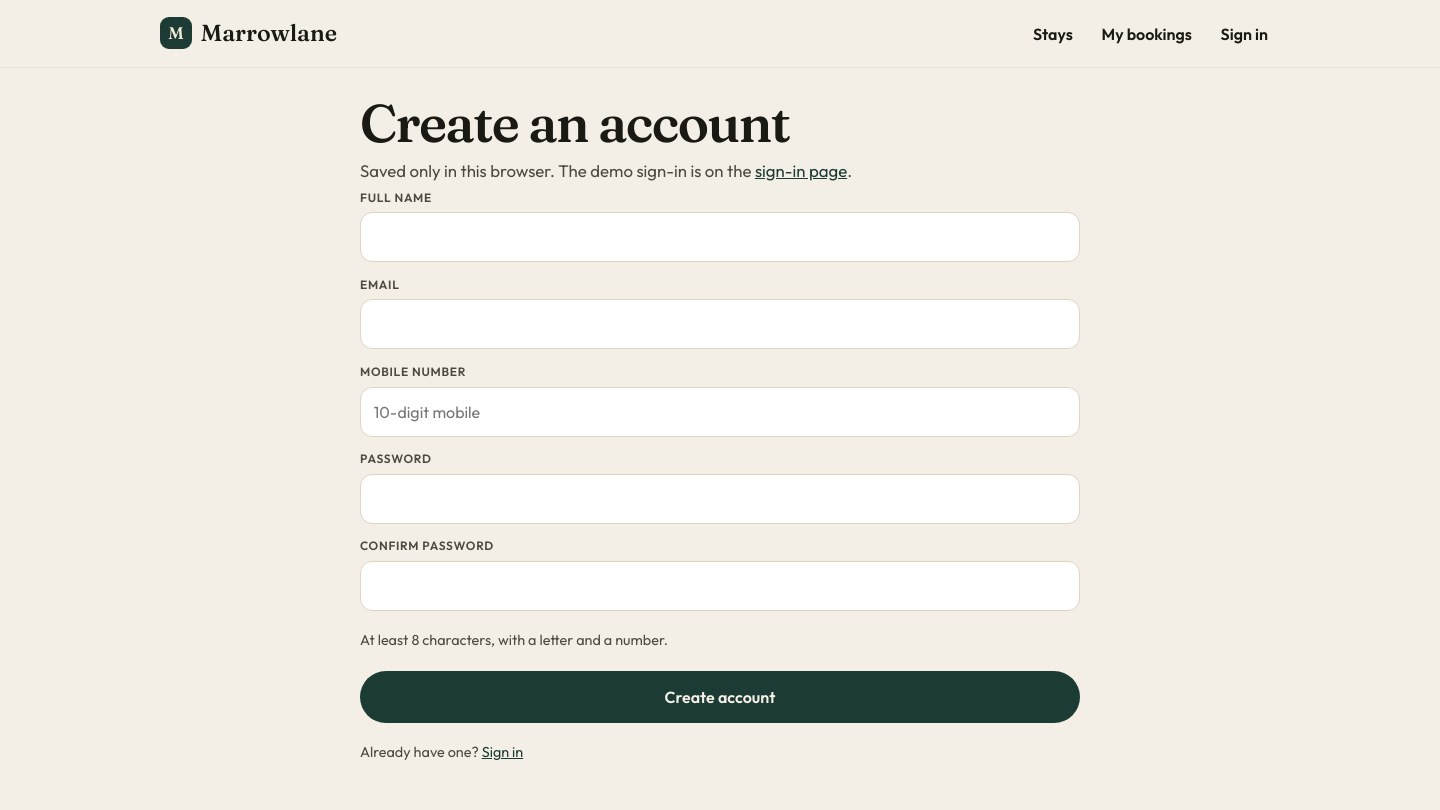
Test: creates an account and signs in
The image size is (1440, 810).
In the field labelled "Full name": (720, 237) [360, 212, 1080, 262], type "Rhea Kapoor"
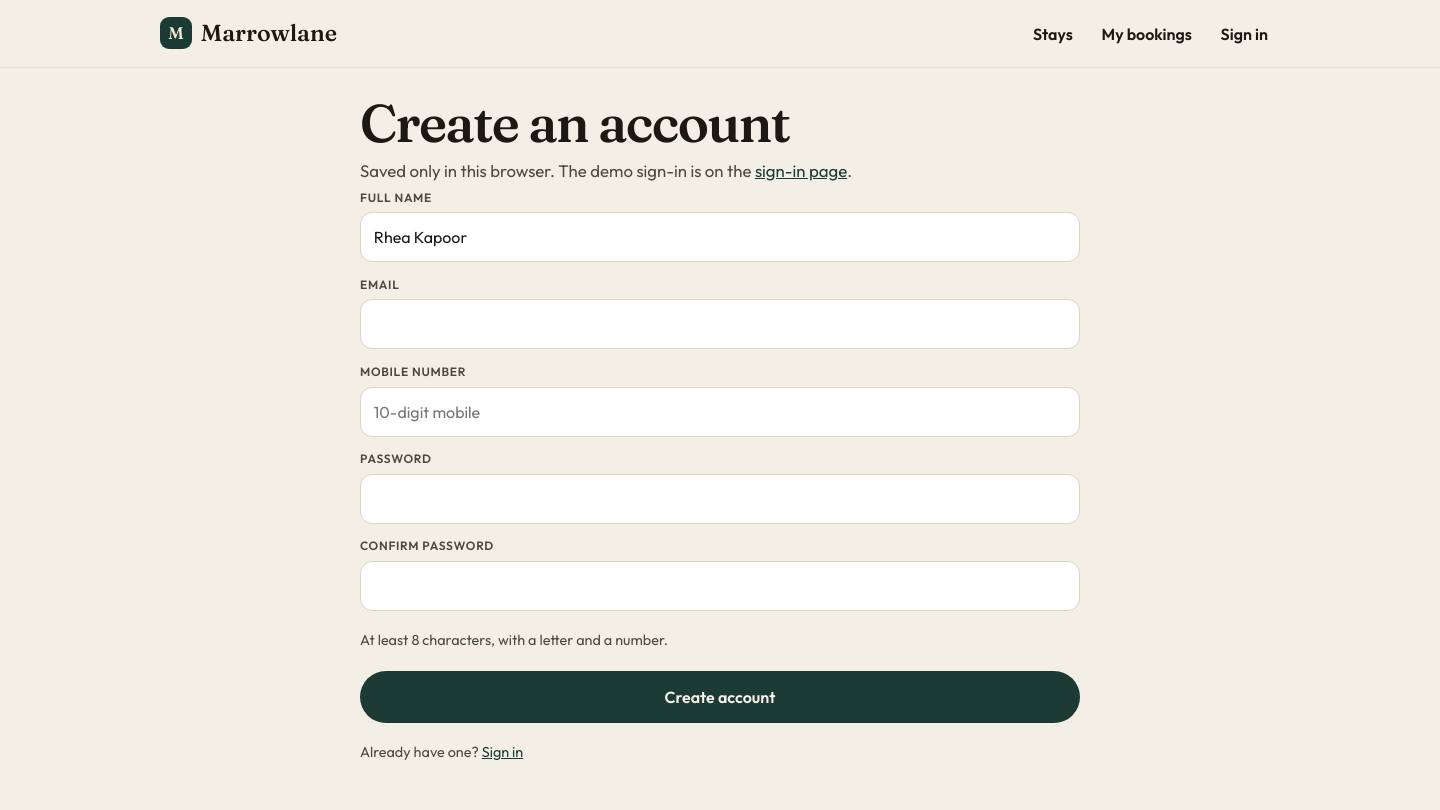
In the field labelled "Email": (720, 324) [360, 299, 1080, 349], type "rhea@example.com"
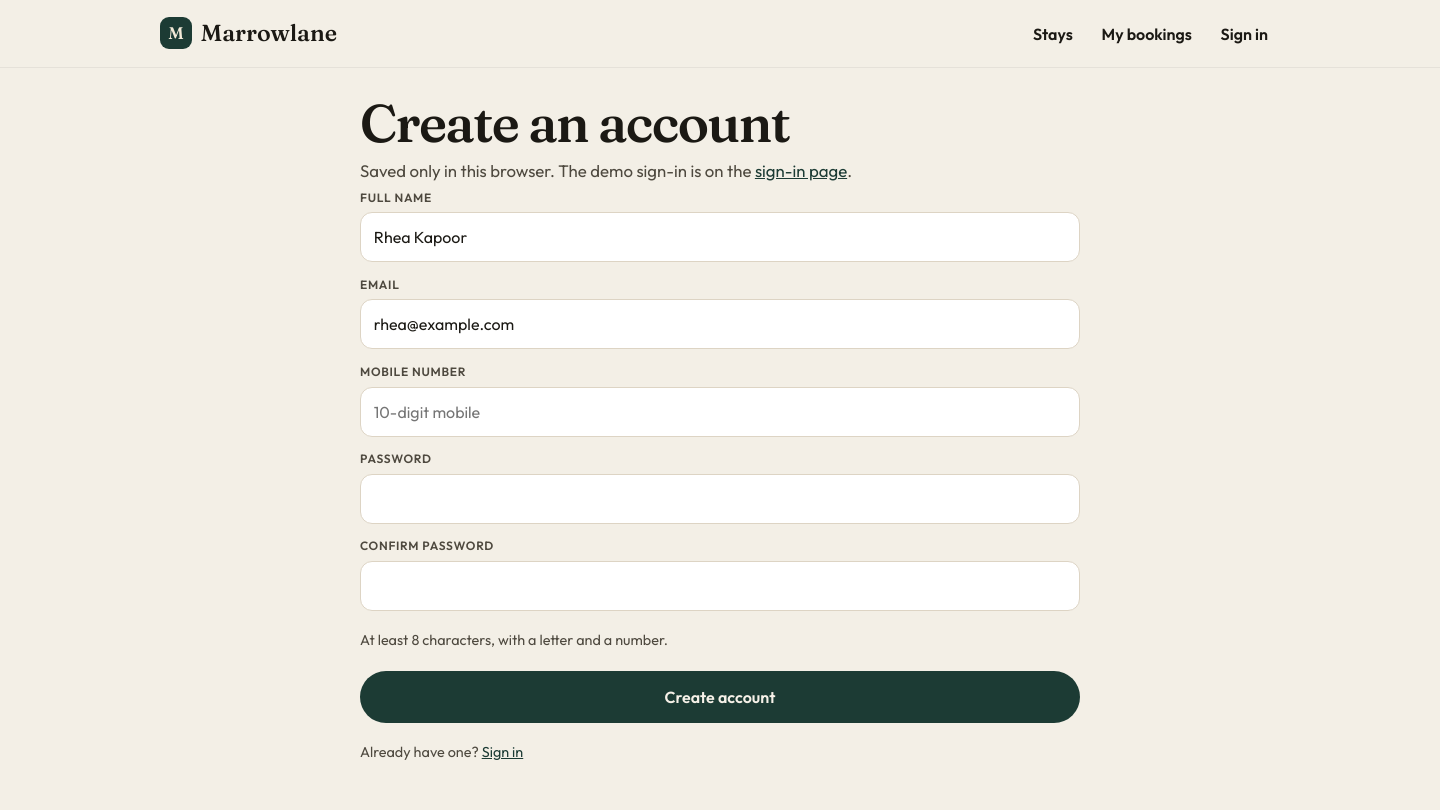
In the field labelled "Mobile number": (720, 412) [360, 386, 1080, 436], type "9123456780"
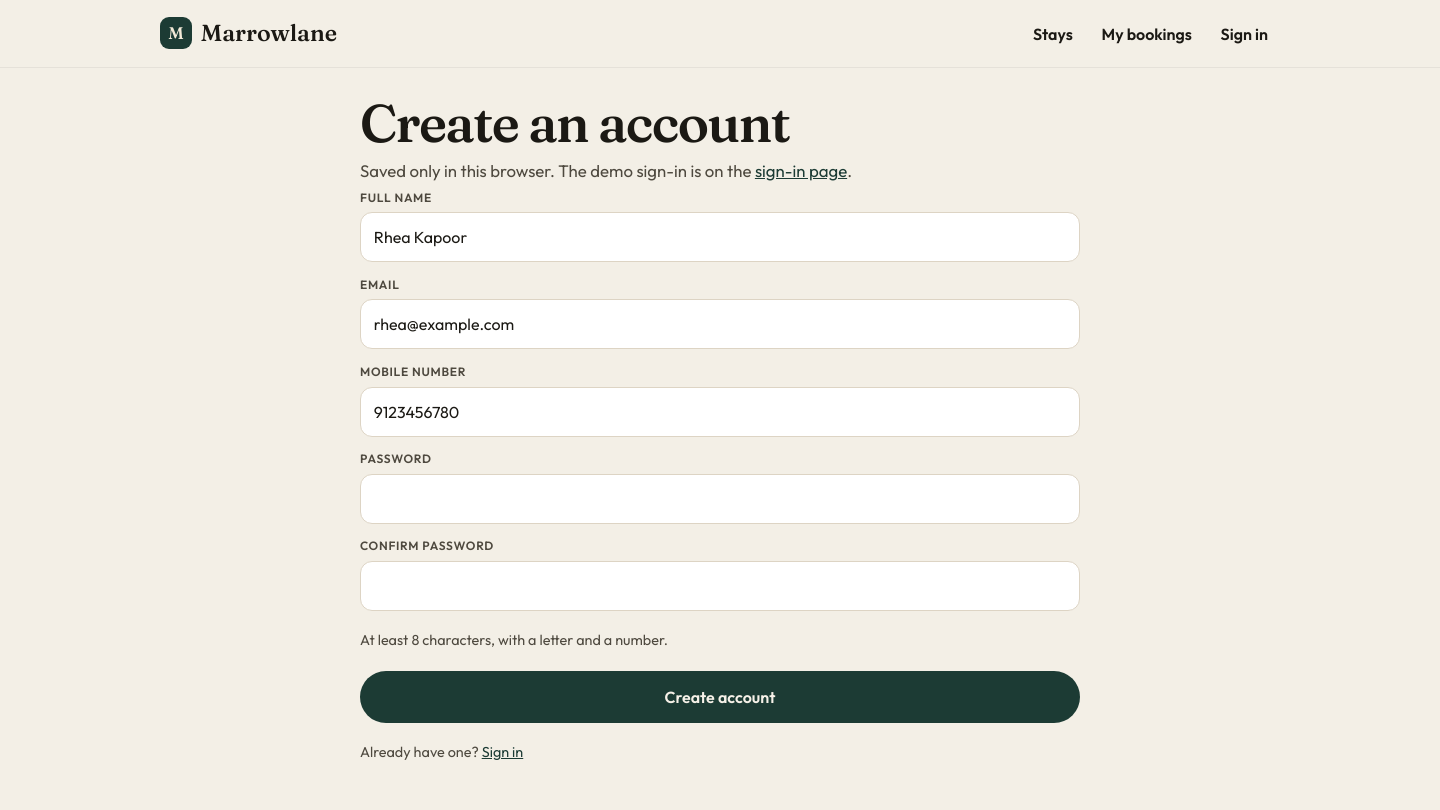
In the password field labelled "Password": (720, 499) [360, 474, 1080, 524], type "Riverlane1"
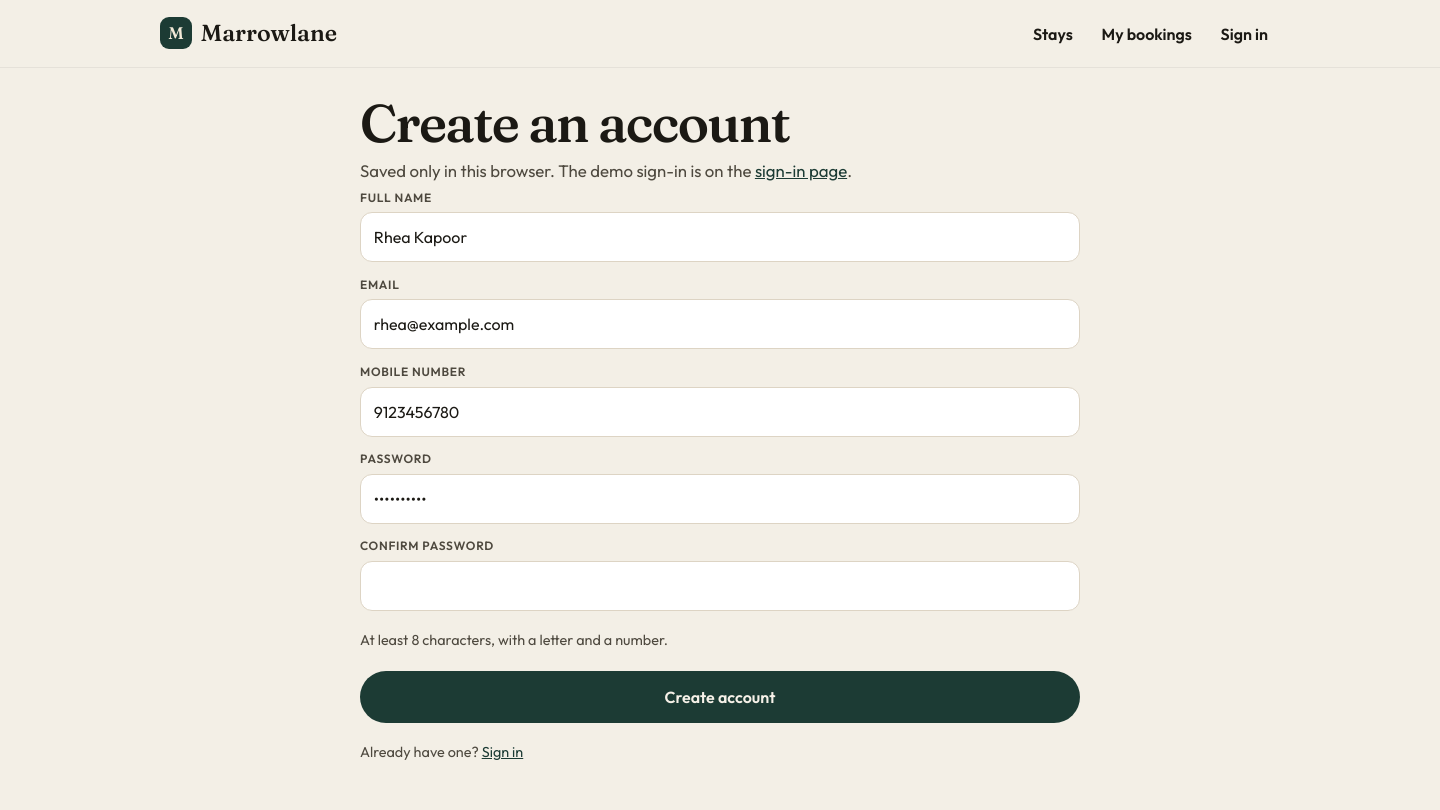
In the password field labelled "Confirm password": (720, 586) [360, 561, 1080, 611], type "Riverlane1"
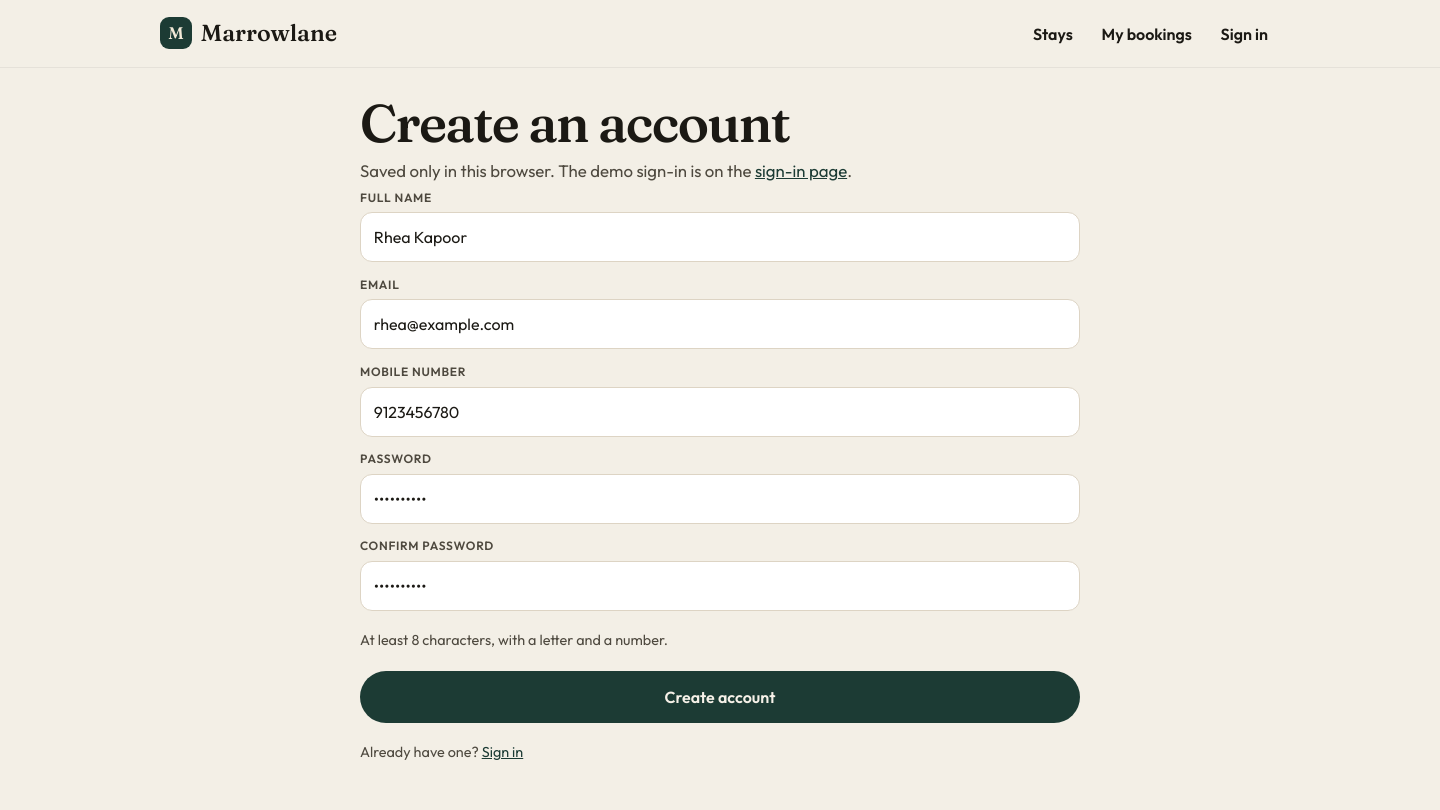
Click the button "Create account": click(720, 697) [360, 671, 1080, 722]
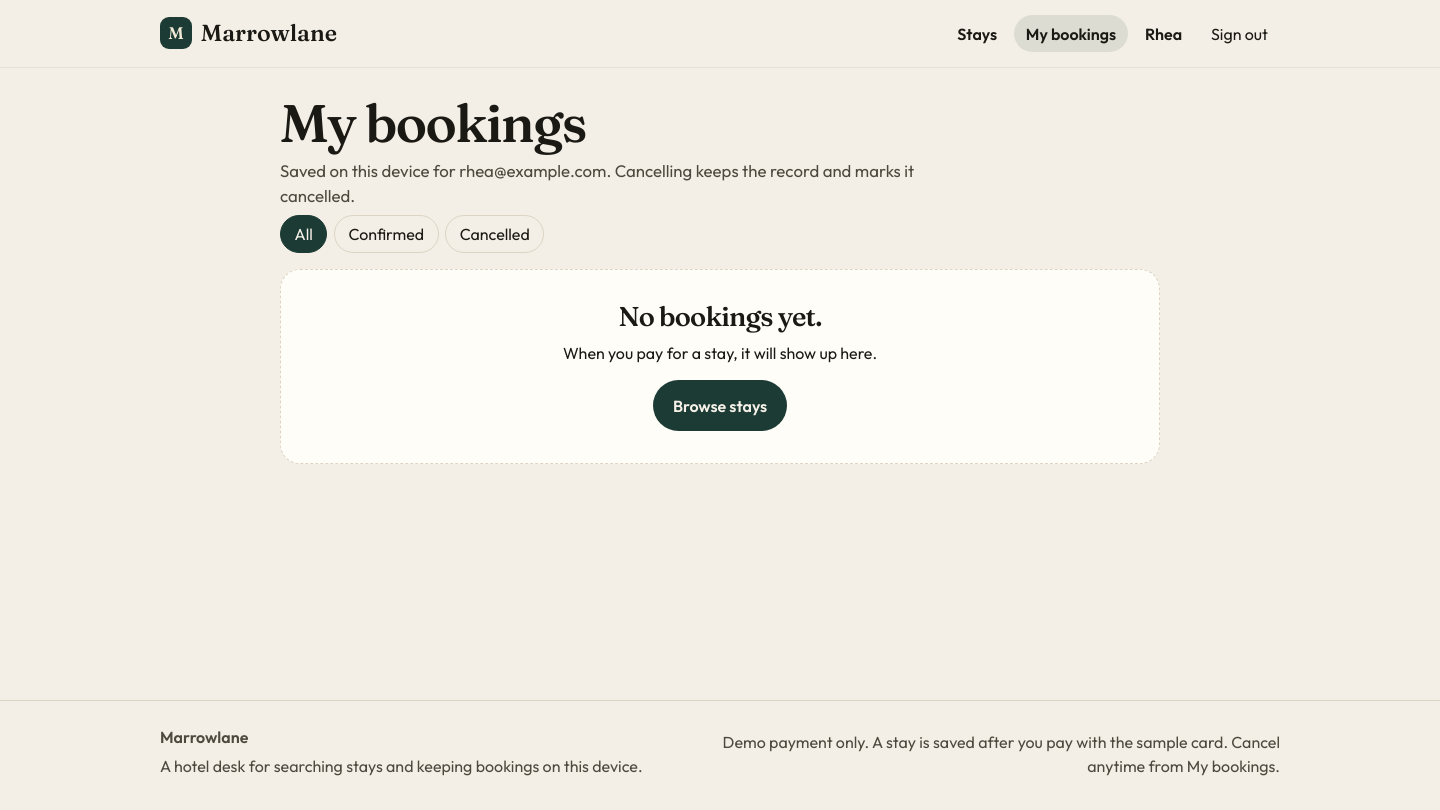
Expected: the link "Rhea" is shown, [1145, 24, 1182, 44]
Expected: the heading "My bookings" is shown, [280, 90, 586, 155]
